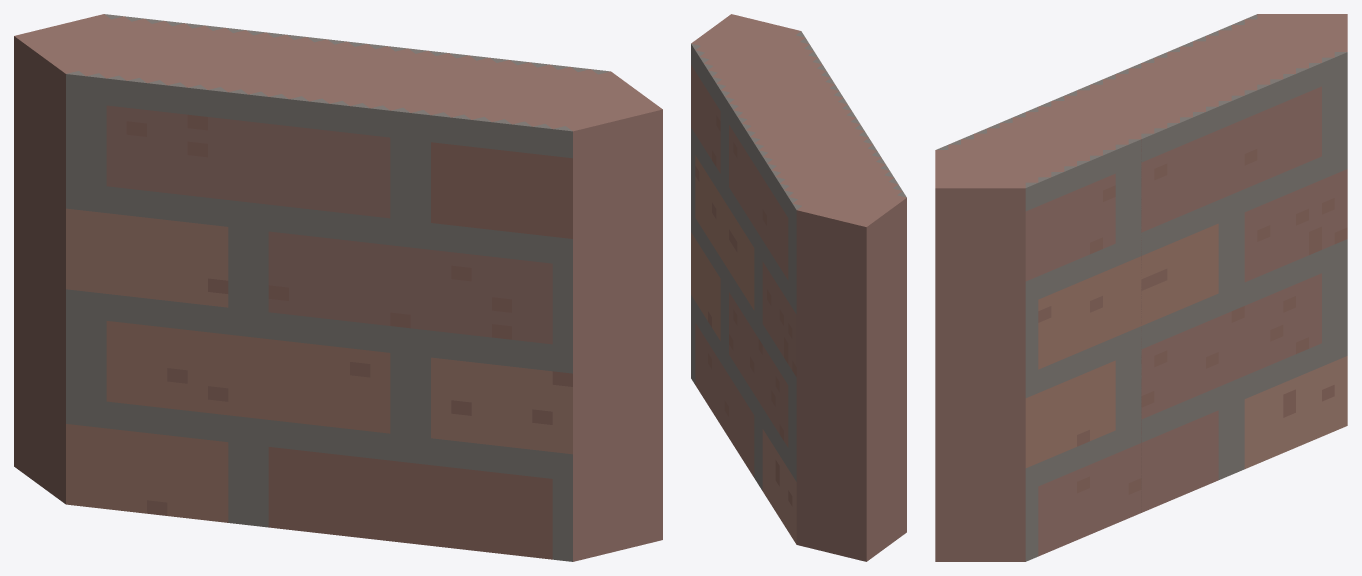
File: brick.diagwall.glb
The picture shows the model from 3 angles, left to right: view 1: azimuth 30°, elevation 25°; view 2: azimuth 150°, elevation 25°; view 3: azimuth 270°, elevation 25°; orthographic projection. The views are drawn at different scales.
Bounding box in the file's own units: 1 × 1 × 1.
